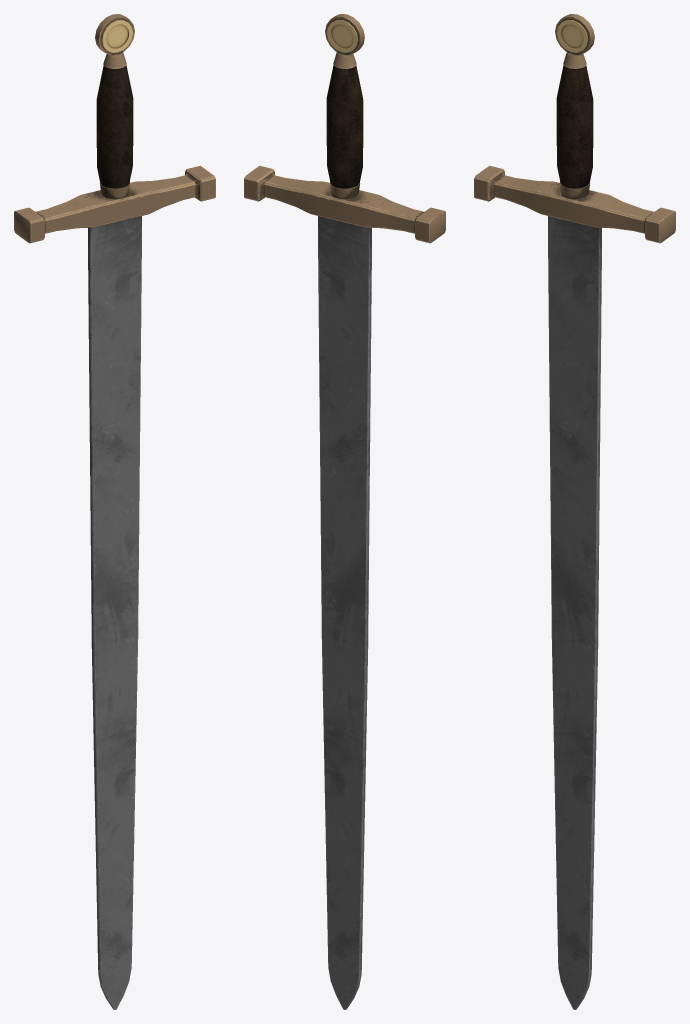
The model's file is SwordInTheStone.gltf.
The picture shows the model from 3 angles, left to right: view 1: azimuth 30°, elevation 25°; view 2: azimuth 150°, elevation 25°; view 3: azimuth 330°, elevation 25°; orthographic projection.
Parts seen in each view (by area): view 1: Sword; view 2: Sword; view 3: Sword.
Part boxes in pixels (<box>): Sword: <box>14,14,215,1009</box>; Sword: <box>244,14,445,1009</box>; Sword: <box>474,14,675,1009</box>.
Size of the model in its own units: 0.4822 by 2.44 by 0.0828.
4 materials, 4 textured.
